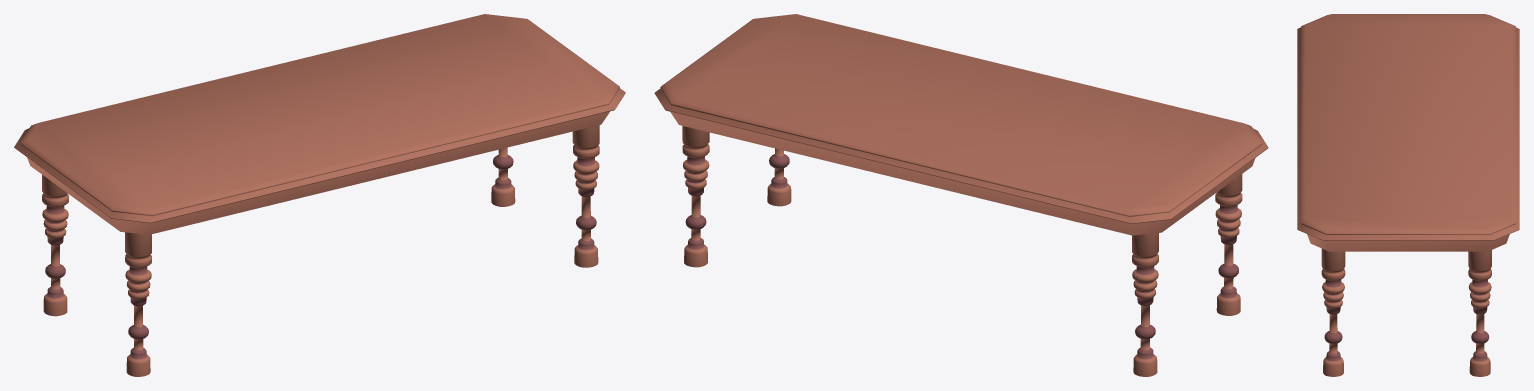
File: Table.fbx
3 renders of one model, left to right at view 1: azimuth 30°, elevation 25°; view 2: azimuth 150°, elevation 25°; view 3: azimuth 270°, elevation 25°, orthographic. The views are drawn at different scales.
Visible parts, largest first — view 1: Table_BP_Top; view 2: Table_BP_Top; view 3: Table_BP_Top.
Boxes of the visible parts, x1,y1,x2,y2 form: Table_BP_Top: (14,14,625,376); Table_BP_Top: (654,14,1268,376); Table_BP_Top: (1297,14,1519,376).
Size of the model in its own units: 4958 by 1612 by 2103.
